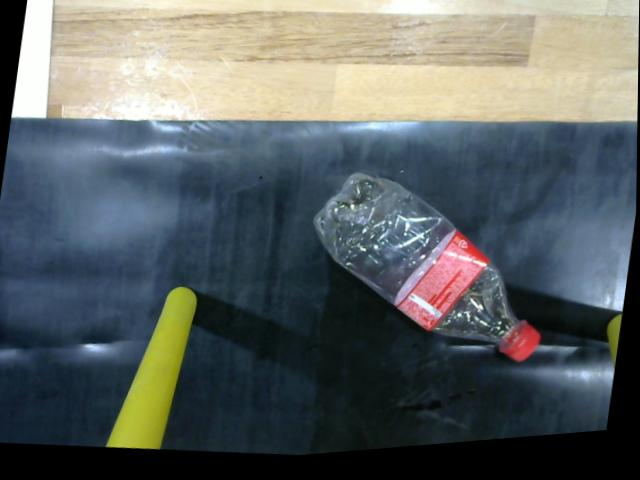bottle: (300, 170, 555, 383)
